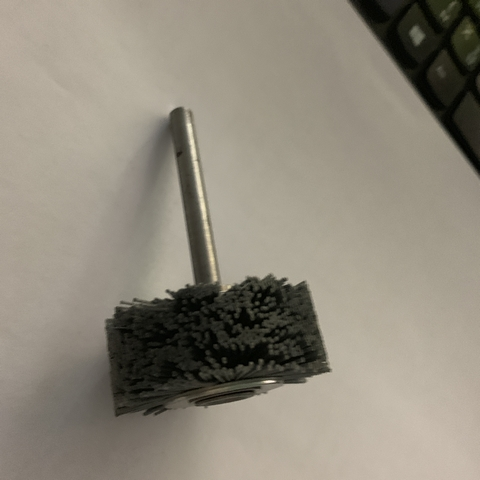Wheel Brush: (86, 101, 349, 413), (117, 94, 352, 435), (86, 98, 298, 412)
